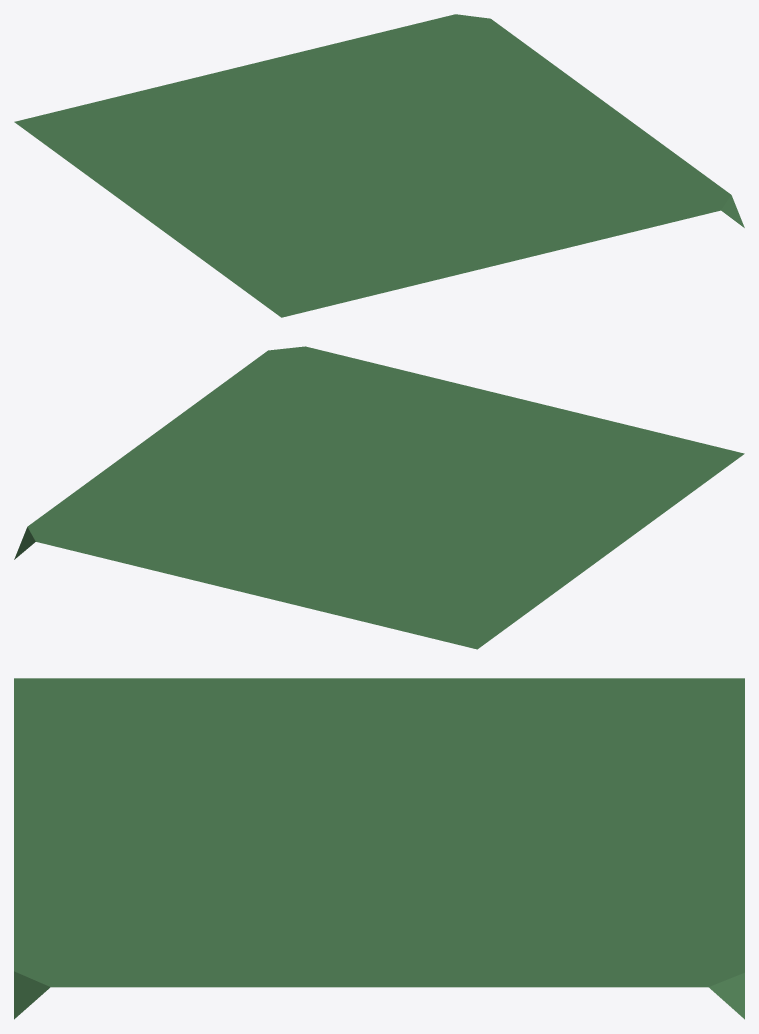
The model's file is Grass_2_Interior_Corner.fbx.
The picture shows the model from 3 angles, top to bottom: view 1: azimuth 30°, elevation 25°; view 2: azimuth 150°, elevation 25°; view 3: azimuth 270°, elevation 25°; orthographic projection. The views are drawn at different scales.
Parts seen in each view (by area): view 1: Grass_2_Interior_Corner; view 2: Grass_2_Interior_Corner; view 3: Grass_2_Interior_Corner.
Boxes of the visible parts, <box> form: Grass_2_Interior_Corner: <box>14,14,744,317</box>; Grass_2_Interior_Corner: <box>14,346,744,649</box>; Grass_2_Interior_Corner: <box>14,678,744,1019</box>.
Size of the model in its own units: 1 by 0.0491 by 1.
